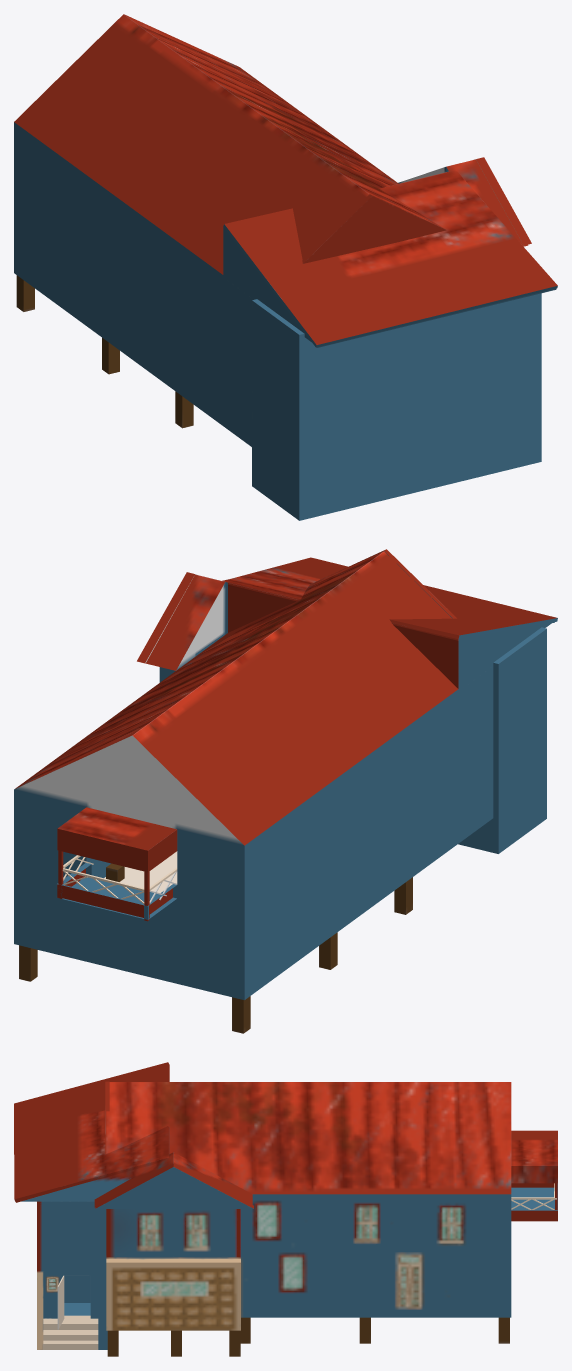
File: casacolor.fbx
3 renders of one model, top to bottom at view 1: azimuth 30°, elevation 25°; view 2: azimuth 150°, elevation 25°; view 3: azimuth 270°, elevation 25°, orthographic. The views are drawn at different scales.
Visible parts, largest first — view 1: Cube.002, Cube.014; view 2: Cube.002, Cube.014, Cube.018, Cube.013; view 3: Cube.002, Cube.014, Cube.017, Cube.016, Cube.015.
Part boxes in pixels (x1,y1,x2,y2): Cube.002: (14, 14, 557, 446); Cube.014: (252, 293, 541, 520); Cube.002: (14, 549, 557, 1000); Cube.014: (458, 627, 546, 853); Cube.018: (232, 996, 250, 1033); Cube.013: (19, 945, 37, 981); Cube.002: (14, 1062, 557, 1330); Cube.014: (37, 1201, 107, 1349); Cube.017: (43, 1315, 98, 1329); Cube.016: (43, 1330, 98, 1340); Cube.015: (43, 1340, 98, 1349).
Size of the model in its own units: 2116 by 2007 by 4550.
Materials: 30 (30 with a texture image).
